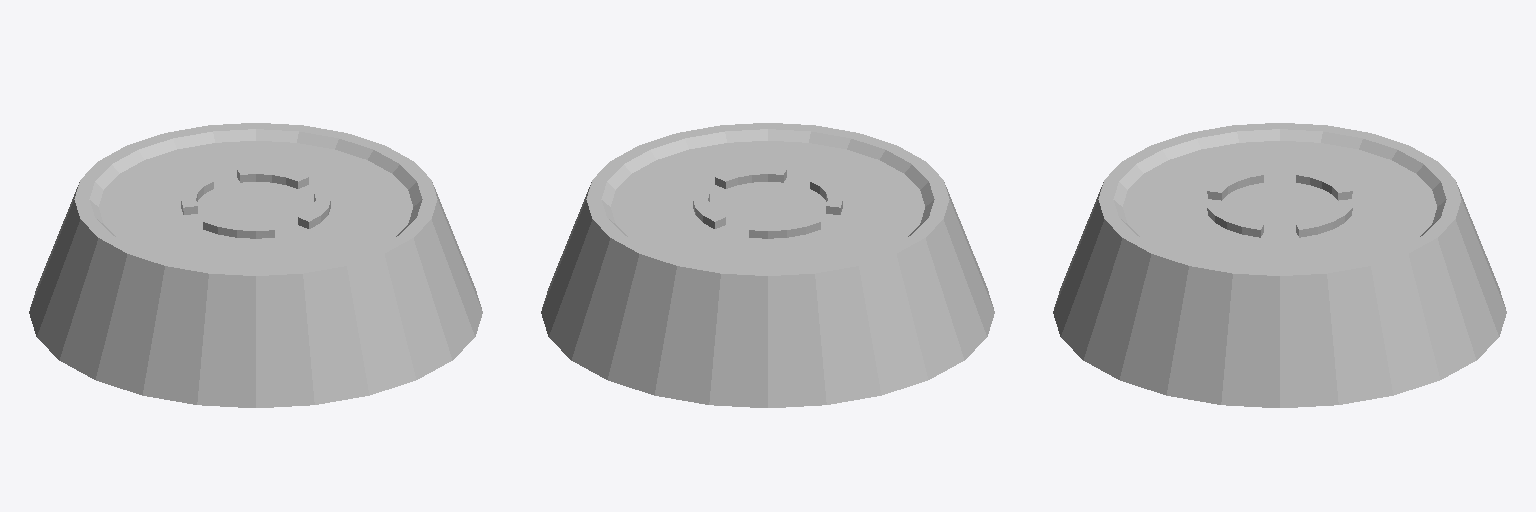
File: Gemini_Service_B.obj
The picture shows the model from 3 angles: view 1: azimuth 30°, elevation 25°; view 2: azimuth 150°, elevation 25°; view 3: azimuth 270°, elevation 25°; orthographic projection.
Parts seen in each view (by area): view 1: Gemini_Service_A; view 2: Gemini_Service_A; view 3: Gemini_Service_A.
Part boxes in pixels (bbox=[...]): Gemini_Service_A: bbox=[29, 123, 482, 407]; Gemini_Service_A: bbox=[541, 123, 994, 407]; Gemini_Service_A: bbox=[1053, 123, 1506, 407].
Size of the model in its own units: 1.88 by 0.515 by 1.88.